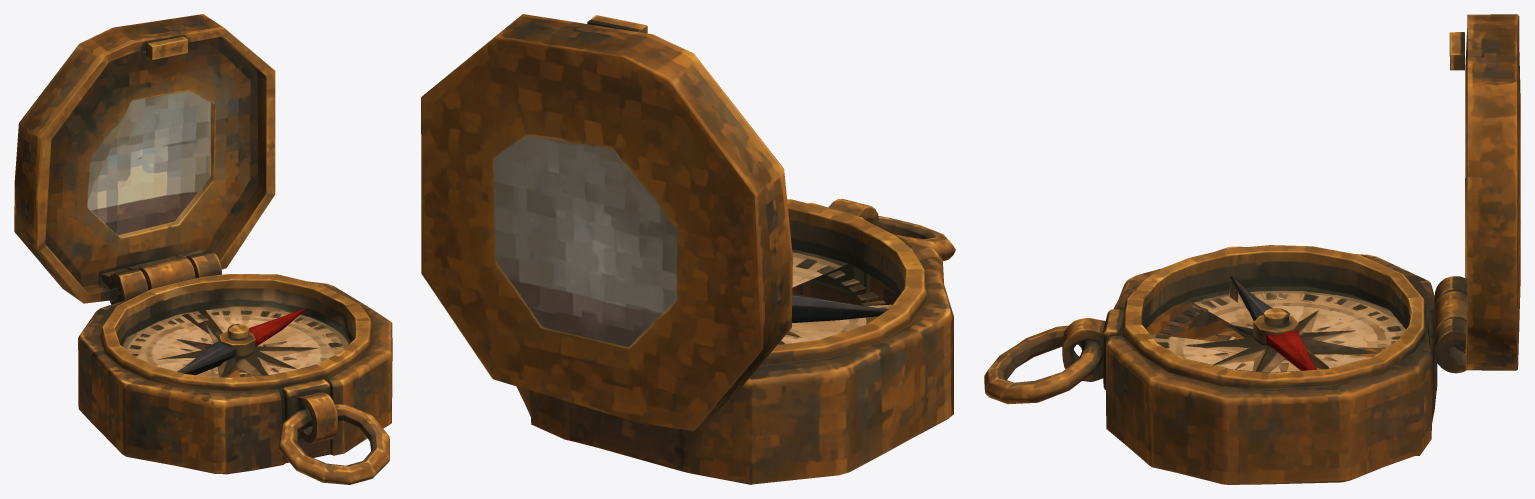
File: compass.glb
3 renders of one model, left to right at view 1: azimuth 30°, elevation 25°; view 2: azimuth 150°, elevation 25°; view 3: azimuth 270°, elevation 25°, orthographic. The views are drawn at different scales.
Visible parts, largest first — view 1: geometry_0; view 2: geometry_0; view 3: geometry_0.
Part boxes in pixels (x1,y1,x2,y2): geometry_0: [14, 14, 392, 484]; geometry_0: [421, 14, 955, 484]; geometry_0: [984, 14, 1520, 484].
Size of the model in its own units: 0.6475 by 0.7319 by 0.9556.
1 material, 1 textured.
